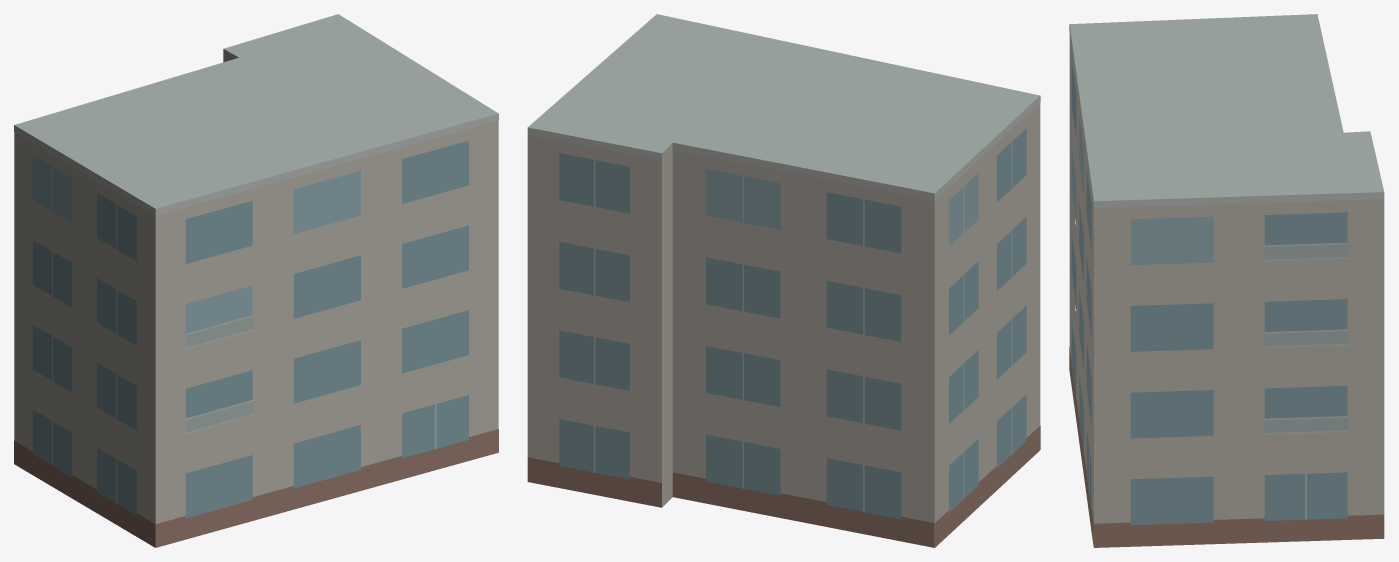
Rendered from survey-upis-32638781.glb.
3 views of the same model, side by side, from view 1: azimuth 30°, elevation 25°; view 2: azimuth 150°, elevation 25°; view 3: azimuth 270°, elevation 25° (orthographic). The views are drawn at different scales.
Visible parts, largest first — view 1: survey-upis-32638781.tmp; view 2: survey-upis-32638781.tmp; view 3: survey-upis-32638781.tmp.
Boxes of the visible parts, left/top/right/bottom form: survey-upis-32638781.tmp: left=14, top=14, right=498, bottom=547; survey-upis-32638781.tmp: left=527, top=14, right=1040, bottom=547; survey-upis-32638781.tmp: left=1069, top=14, right=1384, bottom=547.
Bounding box in the file's own units: 13.79 × 11.9 × 9.8.
